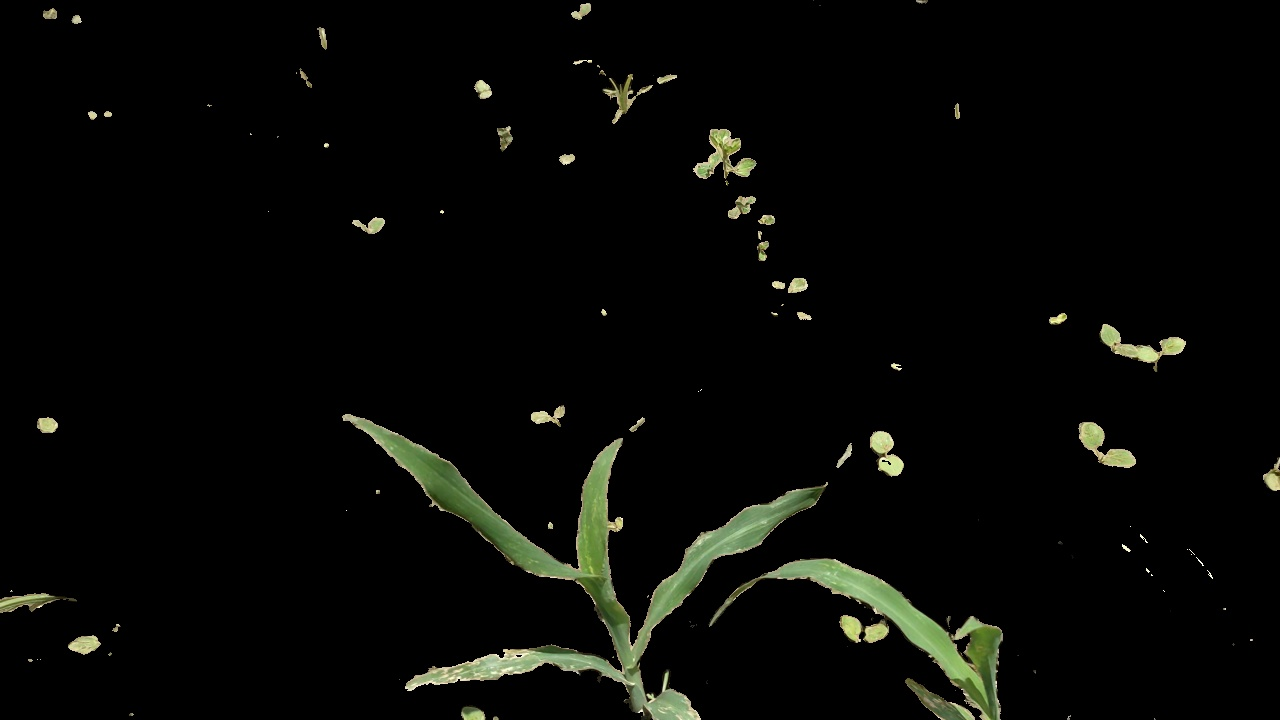crop: (342, 418, 719, 720), (701, 581, 1091, 720)
weed: (565, 47, 671, 124), (1062, 409, 1145, 474), (1095, 314, 1189, 371), (691, 131, 758, 195), (833, 615, 911, 647), (868, 428, 908, 485), (518, 404, 582, 439), (771, 274, 816, 302), (349, 214, 389, 244), (458, 75, 501, 101), (726, 194, 756, 227)
